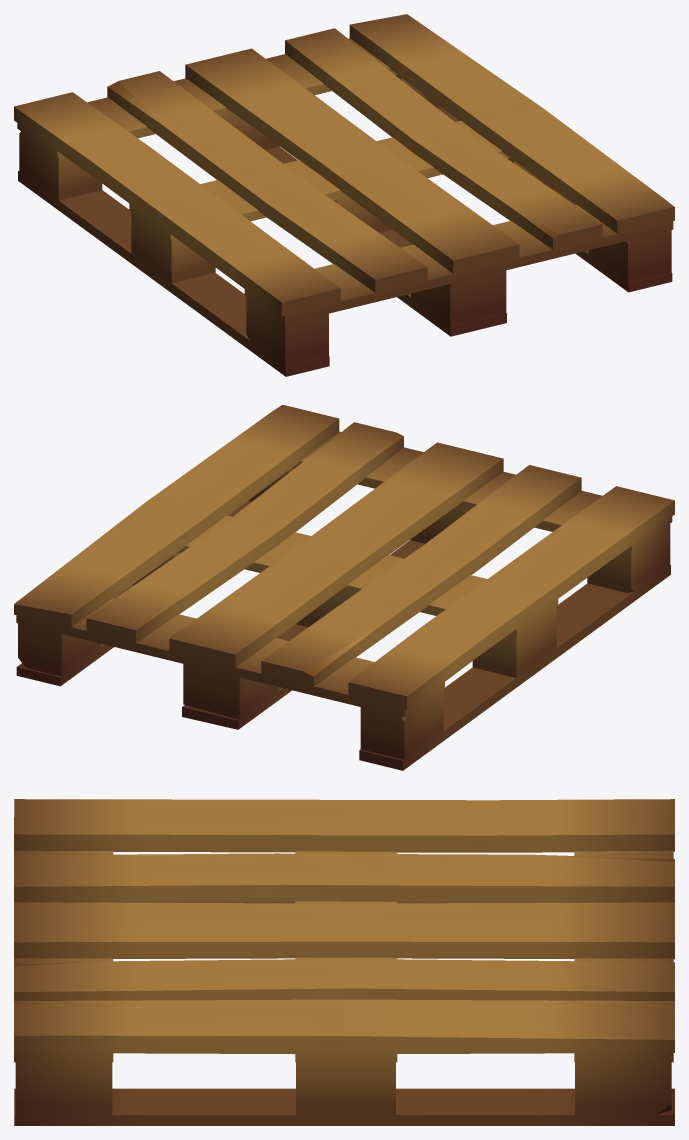
The model's file is WoodenPallet.obj.
3 renders of one model, top to bottom at view 1: azimuth 30°, elevation 25°; view 2: azimuth 150°, elevation 25°; view 3: azimuth 270°, elevation 25°, orthographic. The views are drawn at different scales.
Visible parts, largest first — view 1: Cube.017_Cube.018, Cube.019_Cube.020, Cube.015_Cube.016, Cube.020_Cube.021, Cube.016_Cube.017, Cube.008_Cube.009, Cube.013_Cube.014, Cube.010_Cube.011, Cube.002_Cube.003, Cube.014_Cube.015, Cube.012_Cube.013, Cube.011_Cube.012 (+6 smaller); view 2: Cube.017_Cube.018, Cube.019_Cube.020, Cube.015_Cube.016, Cube.020_Cube.021, Cube.016_Cube.017, Cube.008_Cube.009, Cube.012_Cube.013, Cube.009_Cube.010, Cube.001_Cube.002, Cube.014_Cube.015, Cube.013_Cube.014, Cube.011_Cube.012 (+6 smaller); view 3: Cube.017_Cube.018, Cube.015_Cube.016, Cube.019_Cube.020, Cube.020_Cube.021, Cube.016_Cube.017, Cube.007_Cube.008, Cube.004_Cube.005, Cube.005_Cube.006, Cube.006_Cube.007, Cube.013_Cube.014, Cube.012_Cube.013, Cube.014_Cube.015.
Part boxes in pixels (box(x1,y1,x2,y2)): Cube.017_Cube.018: box(185, 48, 519, 273); Cube.019_Cube.020: box(14, 92, 340, 316); Cube.015_Cube.016: box(349, 14, 674, 233); Cube.020_Cube.021: box(107, 71, 427, 292); Cube.016_Cube.017: box(285, 28, 602, 249); Cube.008_Cube.009: box(18, 171, 329, 376); Cube.013_Cube.014: box(244, 204, 673, 324); Cube.010_Cube.011: box(246, 296, 328, 366); Cube.002_Cube.003: box(411, 270, 506, 326); Cube.014_Cube.015: box(129, 120, 509, 240); Cube.012_Cube.013: box(17, 38, 397, 157); Cube.011_Cube.012: box(131, 212, 215, 283); Cube.017_Cube.018: box(169, 442, 503, 668); Cube.019_Cube.020: box(348, 486, 674, 710); Cube.015_Cube.016: box(14, 405, 339, 628); Cube.020_Cube.021: box(261, 465, 581, 687); Cube.016_Cube.017: box(86, 422, 403, 644); Cube.008_Cube.009: box(359, 565, 670, 770); Cube.012_Cube.013: box(16, 598, 444, 717); Cube.009_Cube.010: box(360, 689, 443, 759); Cube.001_Cube.002: box(183, 664, 278, 719); Cube.014_Cube.015: box(177, 515, 558, 635); Cube.013_Cube.014: box(292, 431, 672, 551); Cube.011_Cube.012: box(472, 607, 556, 677); Cube.017_Cube.018: box(14, 902, 674, 959); Cube.015_Cube.016: box(14, 999, 674, 1054); Cube.019_Cube.020: box(14, 799, 674, 852); Cube.020_Cube.021: box(14, 853, 674, 902); Cube.016_Cube.017: box(14, 959, 674, 1000); Cube.007_Cube.008: box(14, 1088, 674, 1125); Cube.004_Cube.005: box(296, 1062, 395, 1114); Cube.005_Cube.006: box(15, 1062, 112, 1114); Cube.006_Cube.007: box(575, 1062, 671, 1114); Cube.013_Cube.014: box(14, 817, 113, 1062); Cube.012_Cube.013: box(574, 850, 673, 1062); Cube.014_Cube.015: box(295, 851, 397, 1062).
Bounding box in the file's own units: 6.08 × 1.12 × 7.15.
